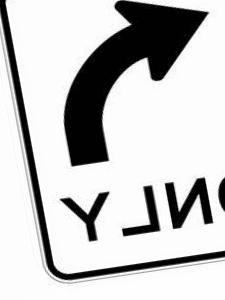right: (41, 1, 211, 168)
